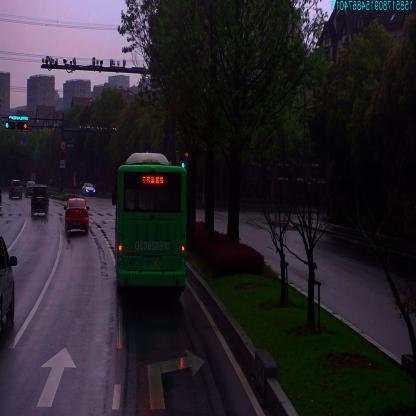traffic-light: (8, 114, 29, 122), (6, 120, 16, 130), (18, 121, 28, 128)
